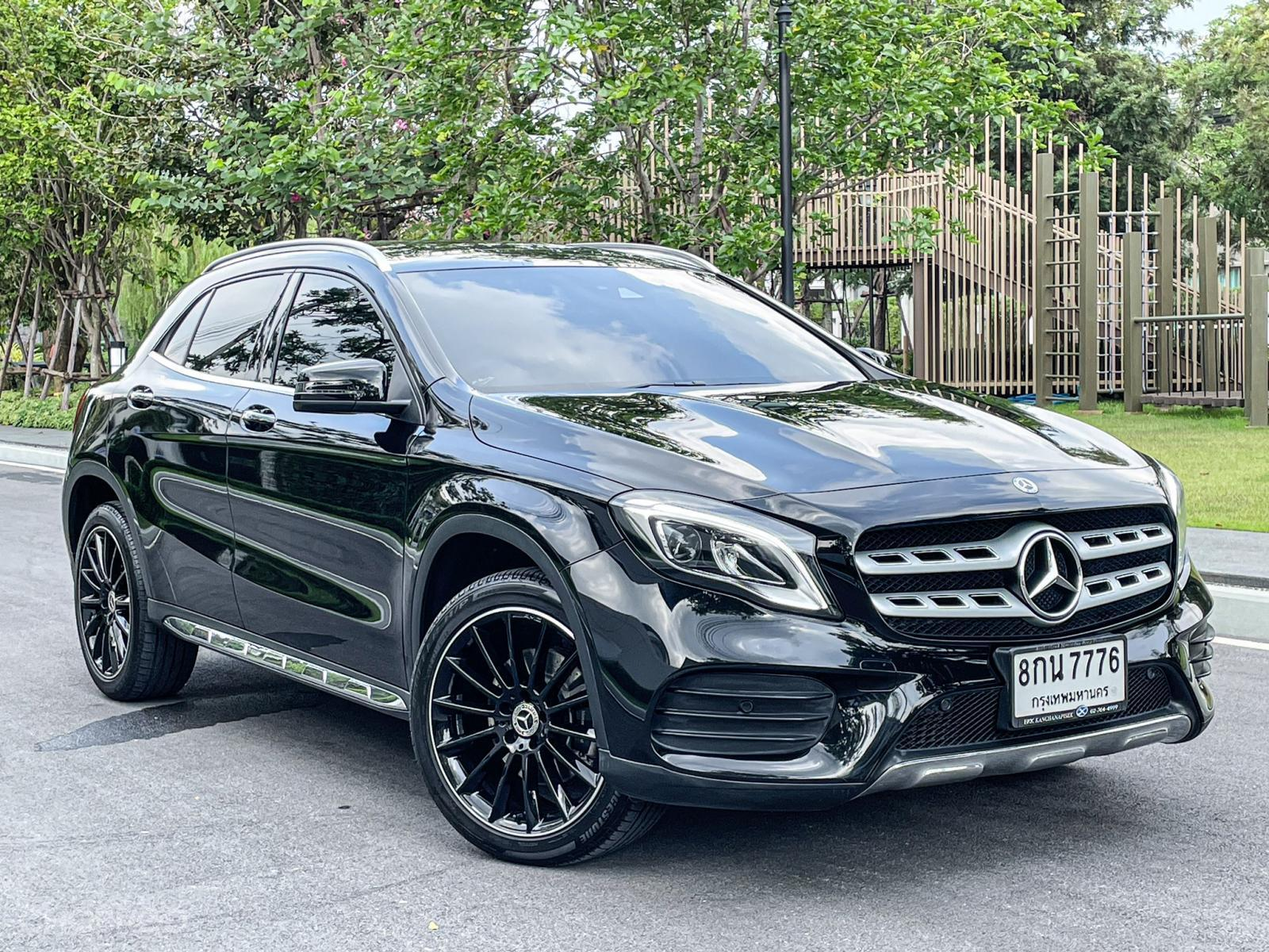license-plate: (997, 635, 1132, 732)
